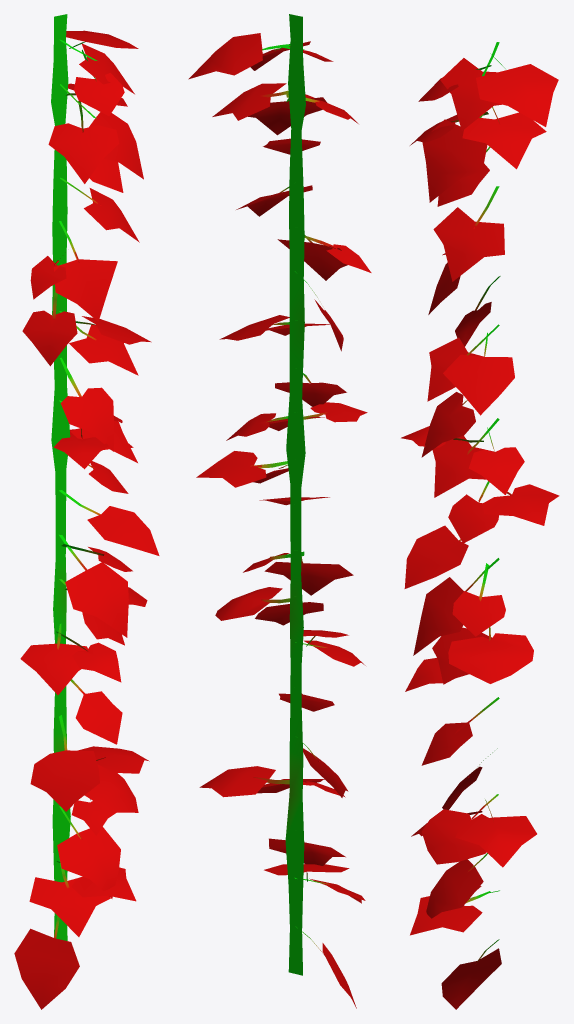
Rendered from Var13_LOD2.fbx.
3 renders of one model, left to right at view 1: azimuth 30°, elevation 25°; view 2: azimuth 150°, elevation 25°; view 3: azimuth 270°, elevation 25°, orthographic. The views are drawn at different scales.
Parts seen in each view (by area): view 1: _zset_Var13_LOD2; view 2: _zset_Var13_LOD2; view 3: _zset_Var13_LOD2.
Boxes of the visible parts, box(x1,y1,x2,y2) form: _zset_Var13_LOD2: box(14, 14, 159, 1009); _zset_Var13_LOD2: box(188, 14, 371, 1008); _zset_Var13_LOD2: box(401, 42, 559, 1009).
Size of the model in its own units: 11.66 by 76.07 by 10.86.
